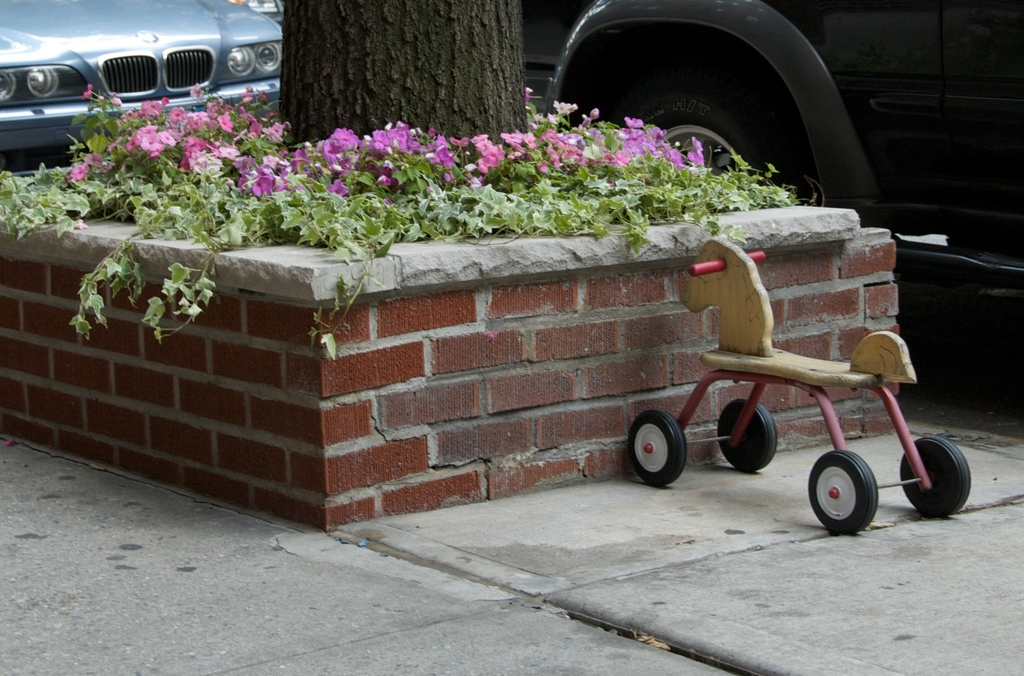Car: (0, 0, 280, 154)
